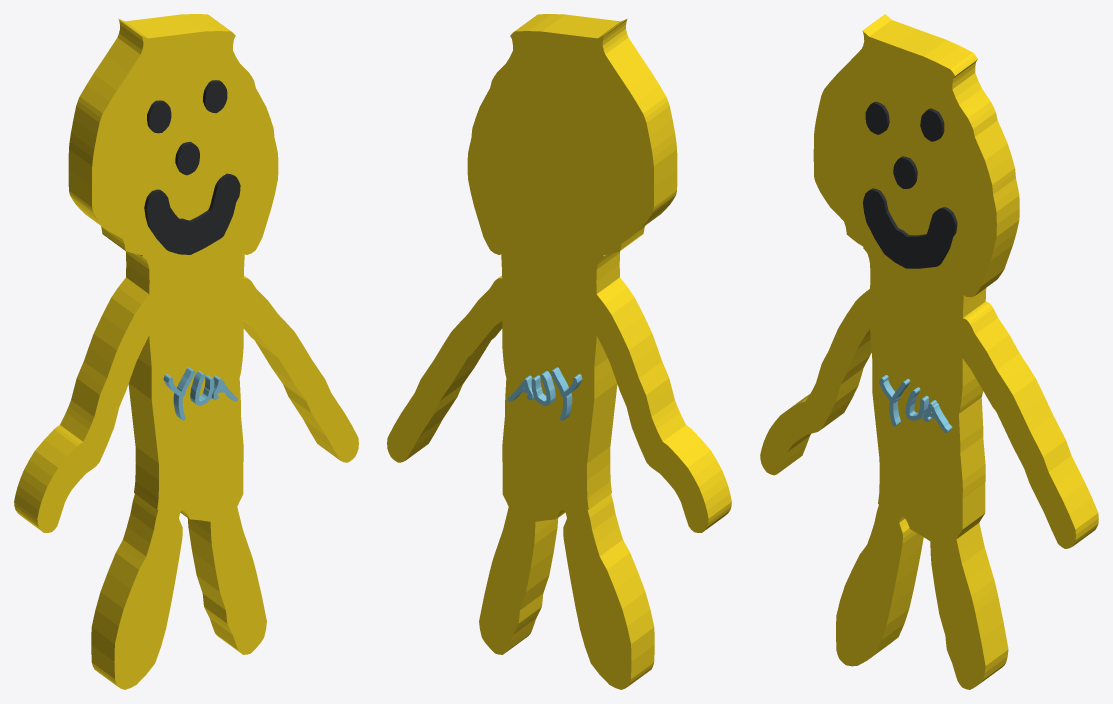
Rendered from tinker.obj.
3 renders of one model, left to right at view 1: azimuth 30°, elevation 25°; view 2: azimuth 150°, elevation 25°; view 3: azimuth 330°, elevation 25°, orthographic.
Parts seen in each view (by area): view 1: group_0_16768282, group_0_2829873, group_0_8768998; view 2: group_0_16768282, group_0_8768998; view 3: group_0_16768282, group_0_2829873, group_0_8768998.
Part boxes in pixels (x1,y1,x2,y2): group_0_16768282: (14,14,358,689); group_0_2829873: (144,80,240,254); group_0_8768998: (163,367,237,420); group_0_16768282: (387,14,731,689); group_0_8768998: (507,367,582,420); group_0_16768282: (760,14,1098,689); group_0_2829873: (863,101,957,268); group_0_8768998: (879,375,952,432).
Size of the model in its own units: 72.4 by 140 by 13.
